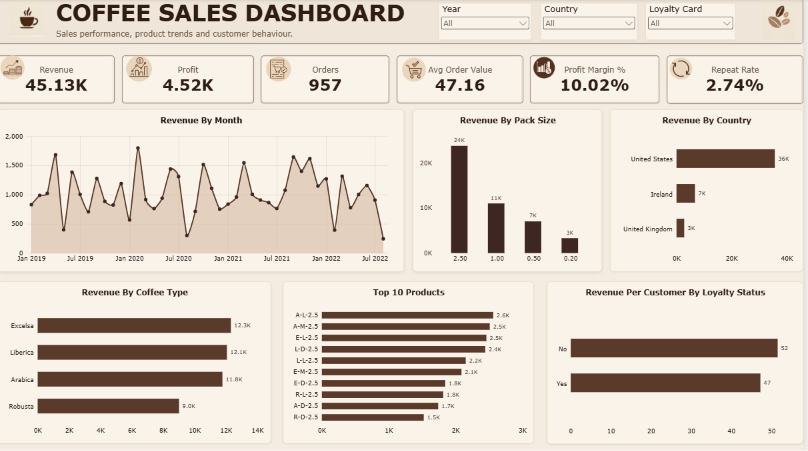

This screenshot's page, from the dashboard's own definition file:
{"tool":"powerbi","page":{"name":"Coffee-Sales-Dashboard","canvas":[1920,1080],"ordinal":0},"visuals":[{"type":"shape","box":[0,0,1920.7,107.4],"z":0},{"type":"cardVisual","fields":{"Data":["orders.Revenue"]},"box":[0,136,277.8,113.4],"z":1000},{"type":"cardVisual","fields":{"Data":["orders.Orders"]},"box":[627.7,136,306.1,113.4],"z":2000},{"type":"cardVisual","fields":{"Data":["orders.Profit"]},"box":[295.4,136,314.6,113.4],"z":3000},{"type":"cardVisual","fields":{"Data":["orders.Avg Order Value"]},"box":[951.5,136,300.5,113.4],"z":4000},{"type":"cardVisual","fields":{"Data":["orders.Repeat Rate"]},"box":[1595.5,136,324.5,114.5],"z":5000},{"type":"slicer","fields":{"Values":["DateTable.Year"]},"box":[1052.2,11.9,219.5,85.9],"z":6000},{"type":"slicer","fields":{"Values":["customers.Country"]},"box":[1294.4,11.9,229,85.9],"z":7000},{"type":"slicer","fields":{"Values":["customers.Loyalty Card"]},"box":[1546.1,11.9,212.3,85.9],"z":8000},{"type":"lineChart","title":"Revenue By Month","fields":{"Category":["DateTable.Month Start"],"Y":["orders.Revenue"]},"box":[0,264.8,968.7,386.5],"z":9000},{"type":"clusteredBarChart","title":"Revenue By Coffee Type","fields":{"Category":["products.Coffee Type Name"],"Y":["orders.Revenue"]},"box":[0,675.7,651.4,386.5],"z":10000},{"type":"clusteredBarChart","title":"Revenue By Country","fields":{"Category":["customers.Country"],"Y":["orders.Revenue"]},"box":[1459.5,264.8,460.5,386.5],"z":11000},{"type":"textbox","box":[138.4,0,904.3,90.7],"z":12000},{"type":"clusteredColumnChart","title":"Revenue By Pack Size","fields":{"Category":["products.Size"],"Y":["orders.Revenue"]},"box":[989,264.8,450.9,386.5],"z":13000},{"type":"cardVisual","fields":{"Data":["orders.Profit Margin %"]},"box":[1269.6,136,309,113.4],"z":14000},{"type":"clusteredBarChart","title":"Top 10 Products","fields":{"Category":["orders.Product ID"],"Y":["orders.Revenue"]},"box":[680.7,675.7,598.9,386.5],"z":15000},{"type":"clusteredBarChart","title":" Revenue Per Customer By Loyalty Status","fields":{"Category":["customers.Loyalty Card"],"Y":["orders.Revenue per Customer"]},"box":[1309,675.2,611,387],"z":16000},{"type":"textbox","box":[138.4,71.6,649,28.6],"z":17000},{"type":"image","box":[842.2,140.8,300.6,57.3],"z":18000},{"type":"image","box":[0,136,69.2,57.3],"z":19000},{"type":"image","box":[298.2,128.8,76.3,76.3],"z":20000},{"type":"image","box":[613.2,138.4,112.1,59.6],"z":21000},{"type":"image","box":[1479.3,136,300.6,62],"z":22000},{"type":"image","box":[1164.3,136,276.8,57.3],"z":23000},{"type":"image","box":[0,4.8,138.4,85.9],"z":24000},{"type":"image","box":[1806.1,0,114.5,100.2],"z":25000}]}

Visuals, with their boxes in screenshot pixels (x1, y1, x2, y2), scaled from the page's 1920x1080 canvas onto the 808x451 screenshot:
shape: (left=0, top=0, right=807, bottom=45)
cardVisual - orders.Revenue: (left=0, top=57, right=117, bottom=104)
cardVisual - orders.Orders: (left=264, top=57, right=393, bottom=104)
cardVisual - orders.Profit: (left=124, top=57, right=257, bottom=104)
cardVisual - orders.Avg Order Value: (left=400, top=57, right=527, bottom=104)
cardVisual - orders.Repeat Rate: (left=671, top=57, right=807, bottom=105)
slicer - DateTable.Year: (left=443, top=5, right=535, bottom=41)
slicer - customers.Country: (left=545, top=5, right=641, bottom=41)
slicer - customers.Loyalty Card: (left=651, top=5, right=740, bottom=41)
"Revenue By Month" lineChart: (left=0, top=111, right=408, bottom=272)
"Revenue By Coffee Type" clusteredBarChart: (left=0, top=282, right=274, bottom=444)
"Revenue By Country" clusteredBarChart: (left=614, top=111, right=807, bottom=272)
textbox: (left=58, top=0, right=439, bottom=38)
"Revenue By Pack Size" clusteredColumnChart: (left=416, top=111, right=606, bottom=272)
cardVisual - orders.Profit Margin %: (left=534, top=57, right=664, bottom=104)
"Top 10 Products" clusteredBarChart: (left=286, top=282, right=538, bottom=444)
" Revenue Per Customer By Loyalty Status" clusteredBarChart: (left=551, top=282, right=807, bottom=444)
textbox: (left=58, top=30, right=331, bottom=42)
image: (left=354, top=59, right=481, bottom=83)
image: (left=0, top=57, right=29, bottom=81)
image: (left=125, top=54, right=158, bottom=86)
image: (left=258, top=58, right=305, bottom=83)
image: (left=623, top=57, right=749, bottom=83)
image: (left=490, top=57, right=606, bottom=81)
image: (left=0, top=2, right=58, bottom=38)
image: (left=760, top=0, right=807, bottom=42)
